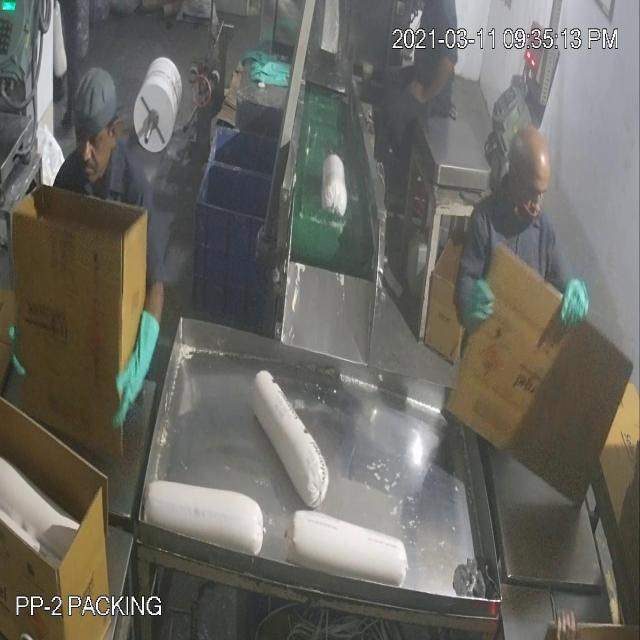No_Gloves: (53, 56, 432, 370)
